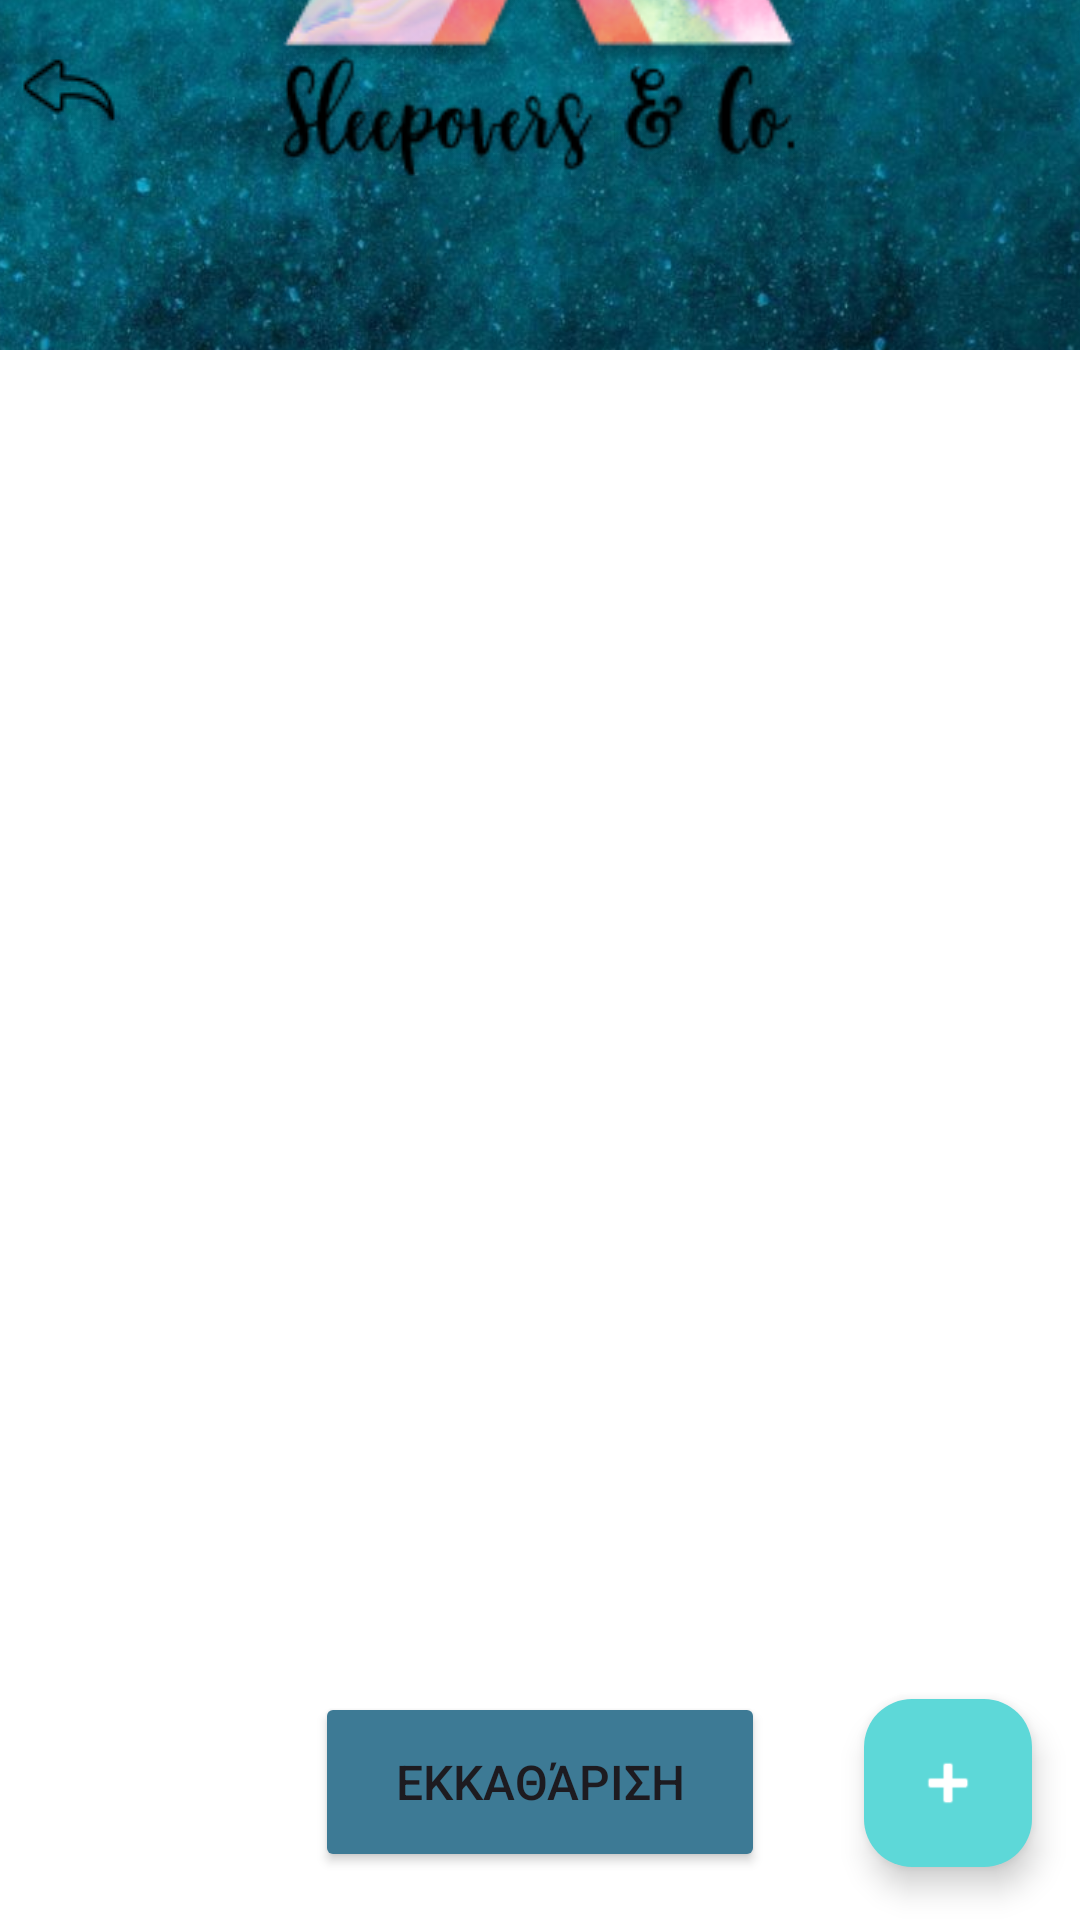

Icon bounding boxes for this 1080x1920 phone screenshot, format region(x1, y1, x2, y2):
add: region(864, 1699, 1032, 1867)
